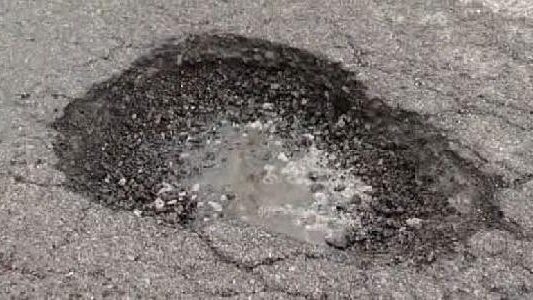pothole: (44, 26, 512, 272)
